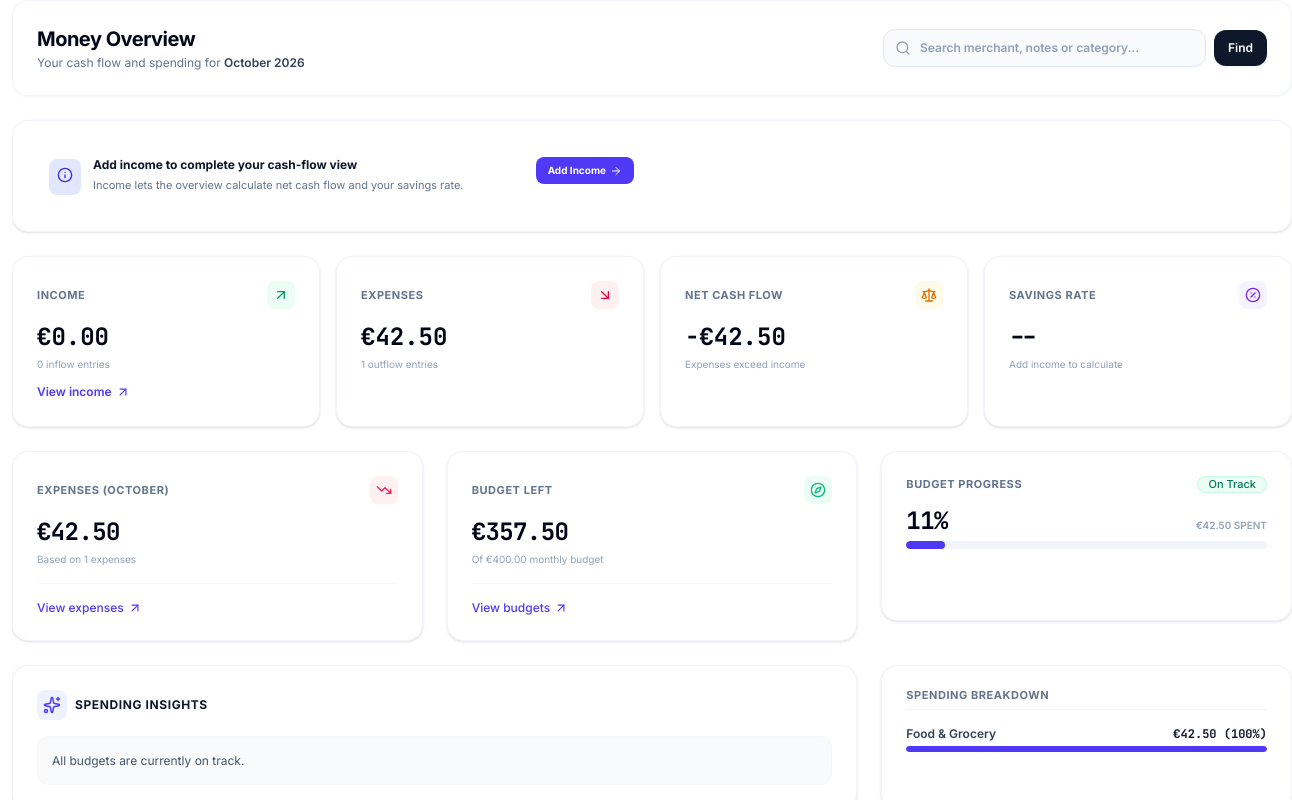
Test: critical UI workflows › dashboard search stores the query and opens expenses
Expected: the text "Based on 1 expenses" is shown, [37, 553, 136, 565]
Type "Aldi" into the field with placeholder "Search merchant, notes or category...".
click(1044, 48); type("Aldi")  # box [883, 29, 1206, 67]
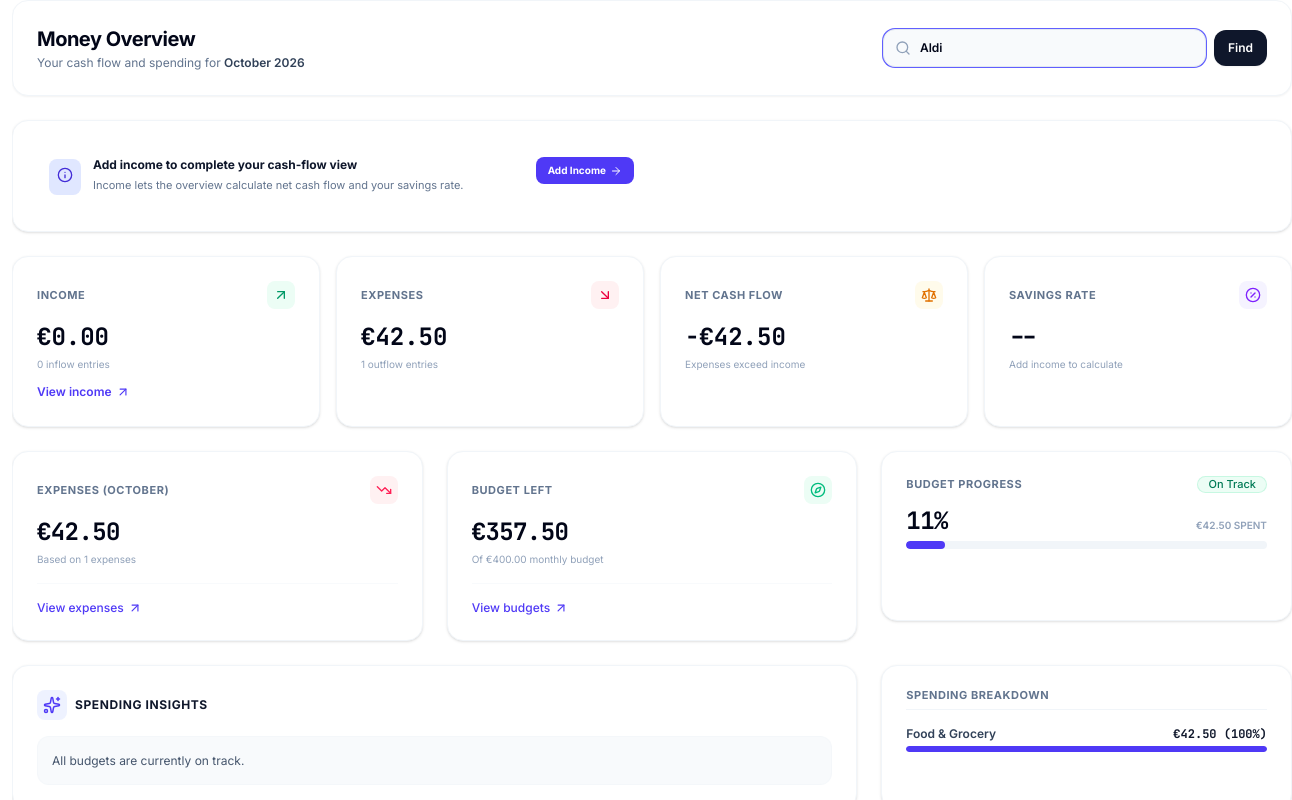
Click the button "Find".
click(1240, 48)  # box [1214, 30, 1267, 66]
(page scrolled)
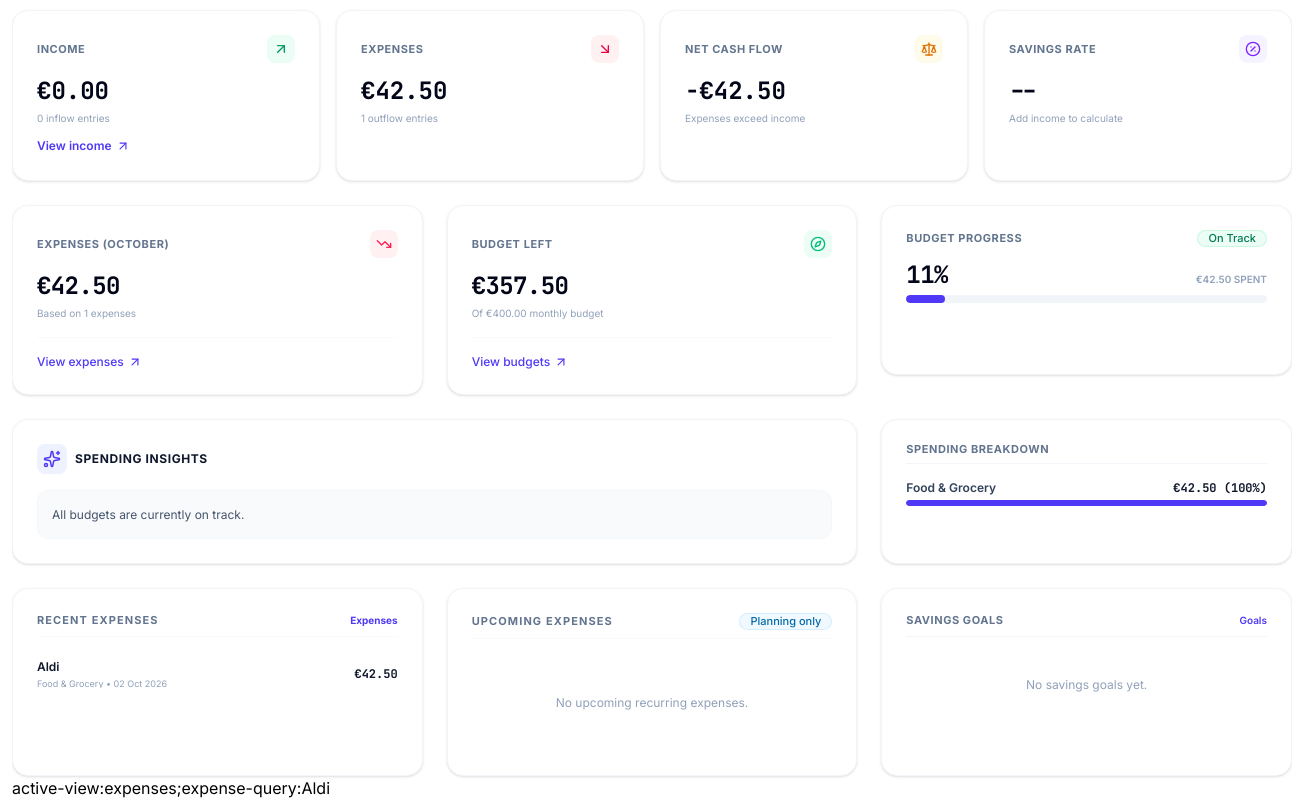
Now the text named "navigation-state" shows "active-view:expenses", box [12, 778, 330, 798]
Now the text named "navigation-state" shows "expense-query:Aldi", box [12, 778, 330, 798]
